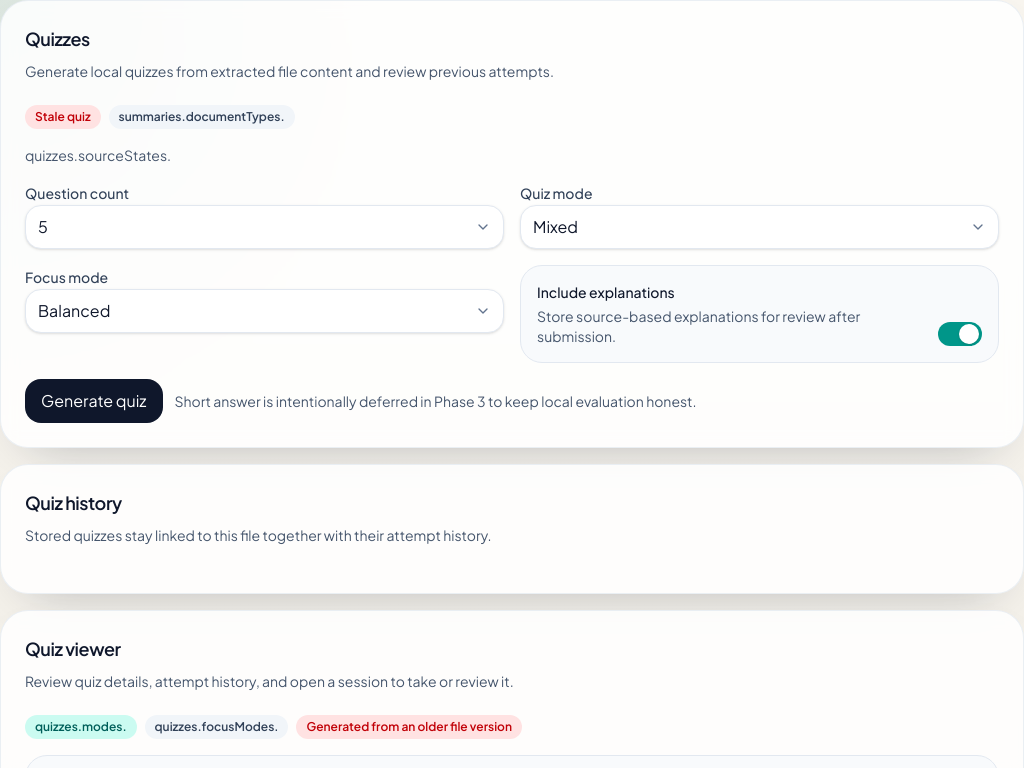
it: FileQuizPanel › shows an unsupported state for unsupported quiz sources
The image size is (1024, 768).
Click the button "Generate quiz" at (94, 401), box [25, 379, 162, 423]
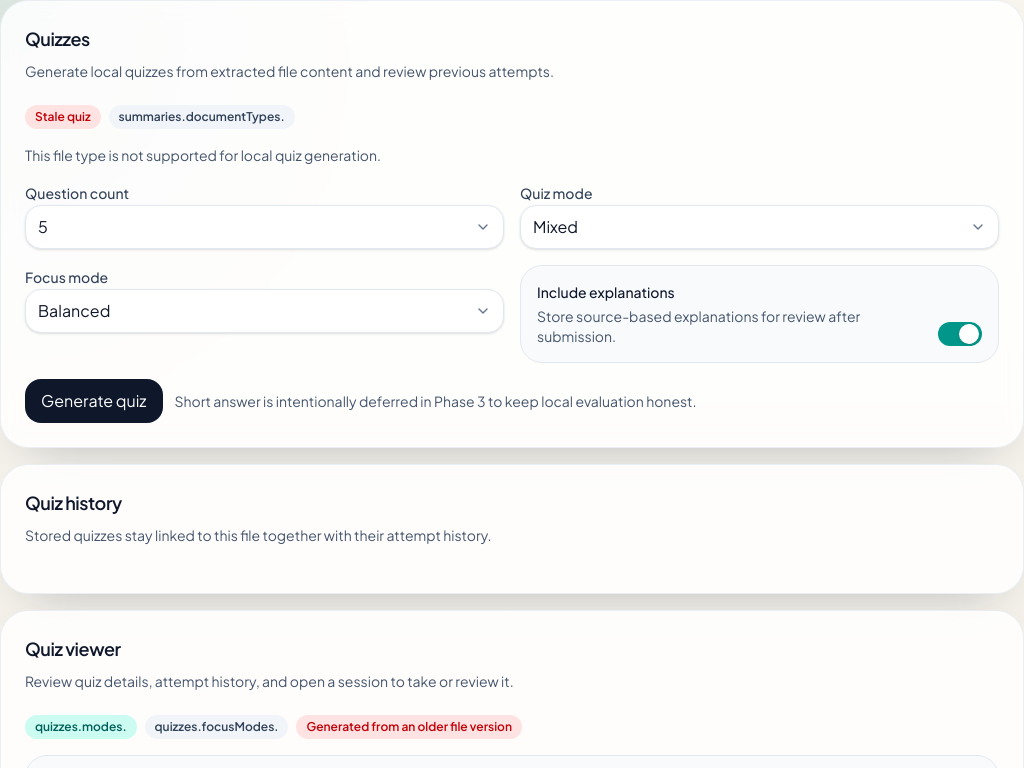
Result: the text "This file type is not supported for local quiz generation." is shown at [25, 146, 381, 164]
